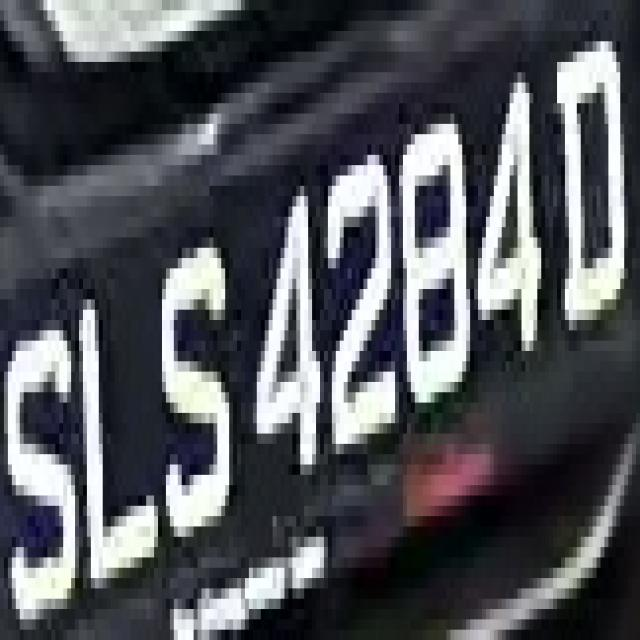2: (312, 145, 407, 485)
4: (458, 72, 549, 382), (245, 155, 320, 495)
8: (383, 93, 486, 444)
D: (553, 41, 628, 351)
L: (63, 268, 166, 588)
S: (142, 237, 249, 588), (0, 4, 1, 10)
